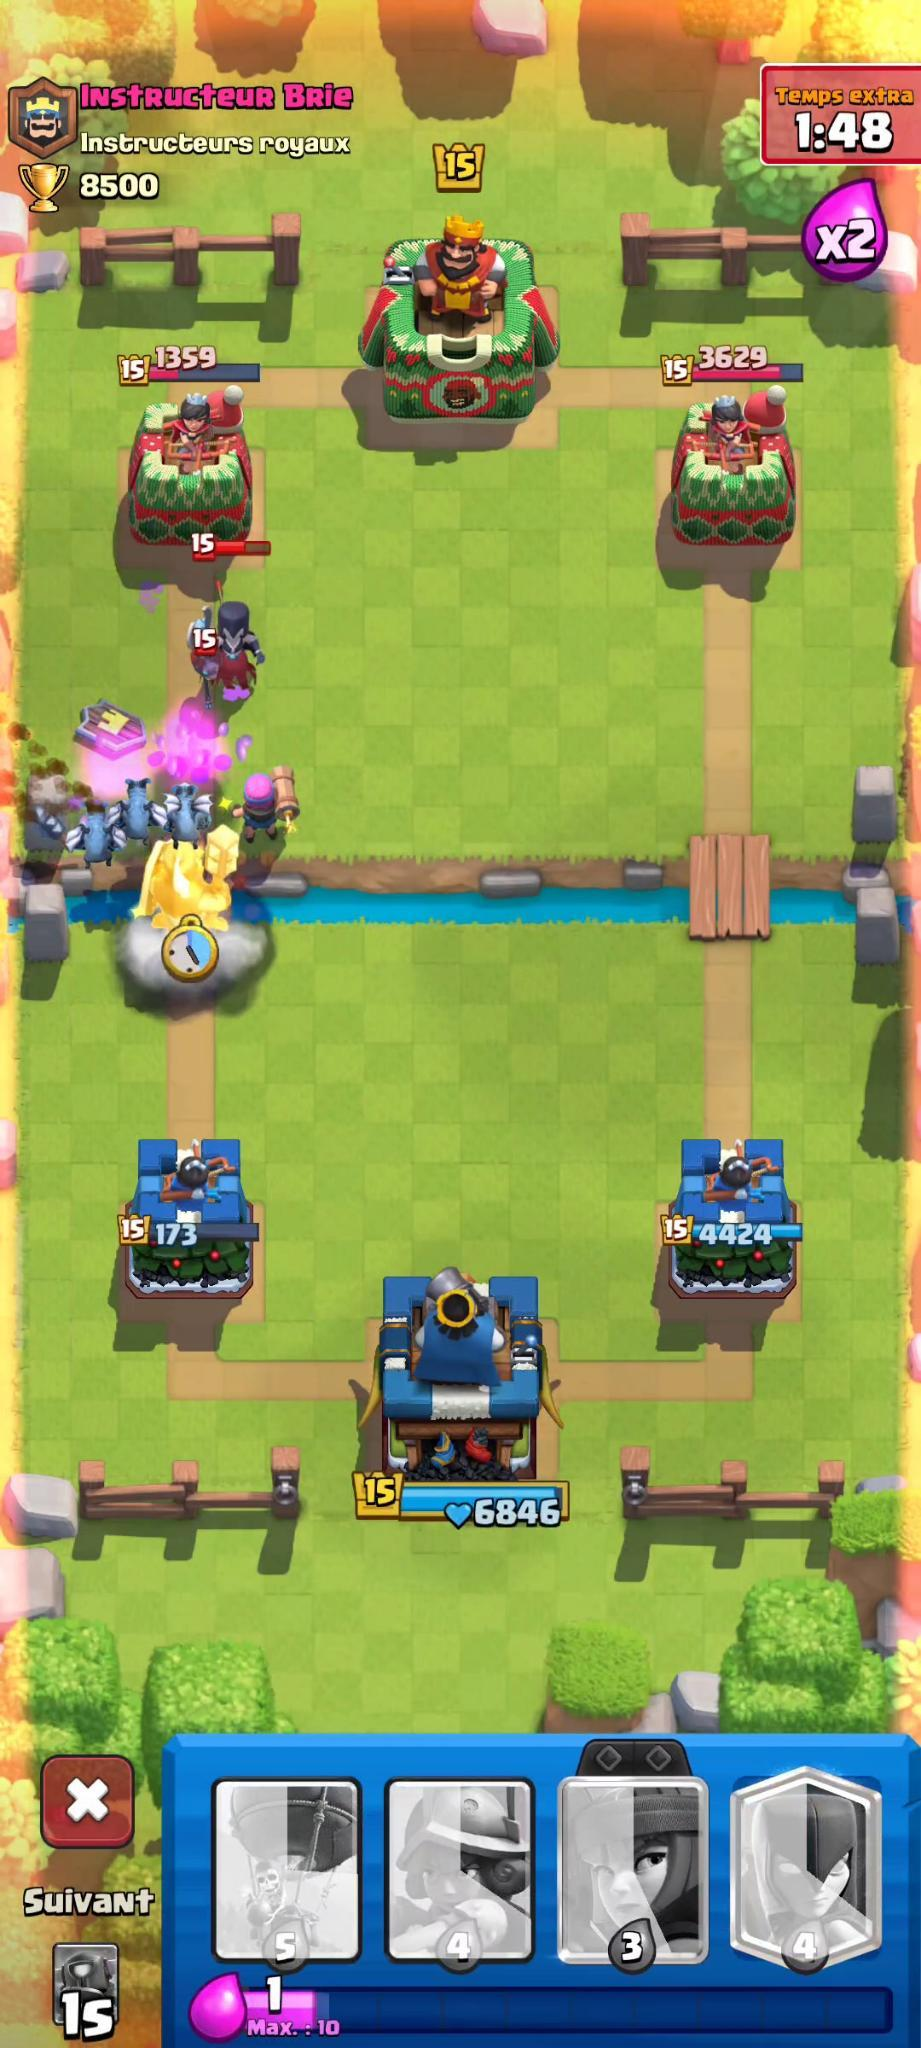enemy_bats: (190, 630, 225, 689)
enemy_night_witch: (172, 530, 282, 693)
player_firecraker: (230, 762, 306, 852)
player_minions: (62, 797, 124, 876), (157, 778, 218, 857), (108, 773, 167, 850)
